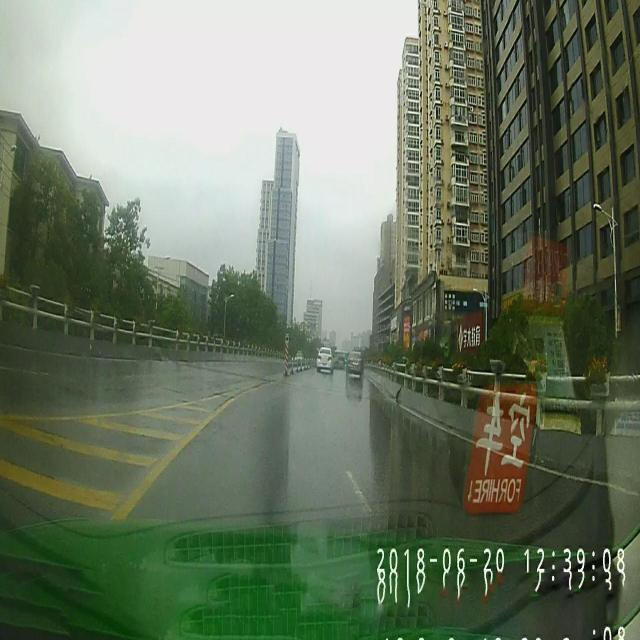car: (348, 348, 363, 376), (316, 348, 332, 371), (331, 352, 345, 370)
